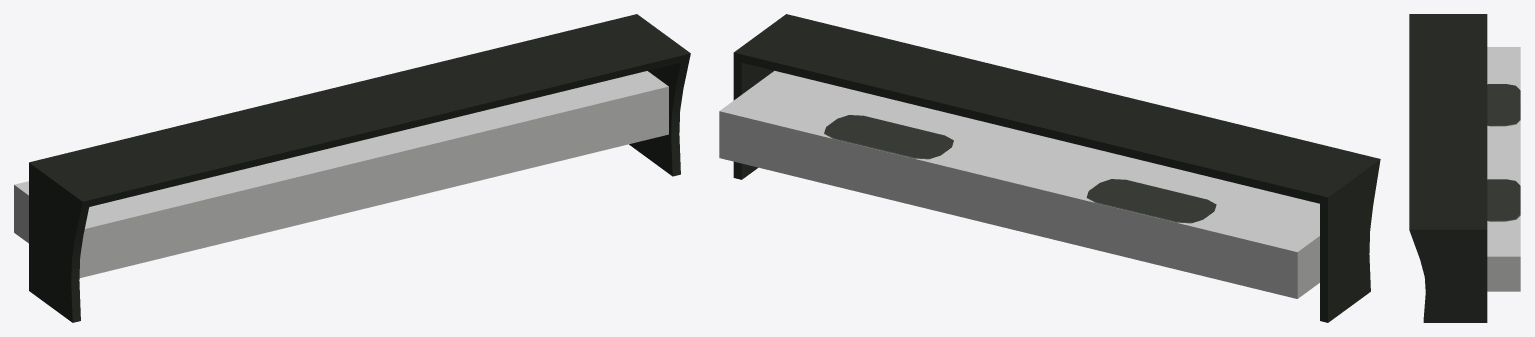
File: Bar_Black_No_Taps.glb
3 views of the same model, side by side, from view 1: azimuth 30°, elevation 25°; view 2: azimuth 150°, elevation 25°; view 3: azimuth 270°, elevation 25° (orthographic). The views are drawn at different scales.
Visible parts, largest first — view 1: bar; view 2: bar; view 3: bar.
Part boxes in pixels (x1=…): bar: x1=14, y1=14, x2=690, y2=322; bar: x1=719, y1=14, x2=1380, y2=322; bar: x1=1409, y1=14, x2=1520, y2=322.
Size of what is drawn, in the model's own units: 6.13 by 1.24 by 1.34.
1 material, 1 textured.
